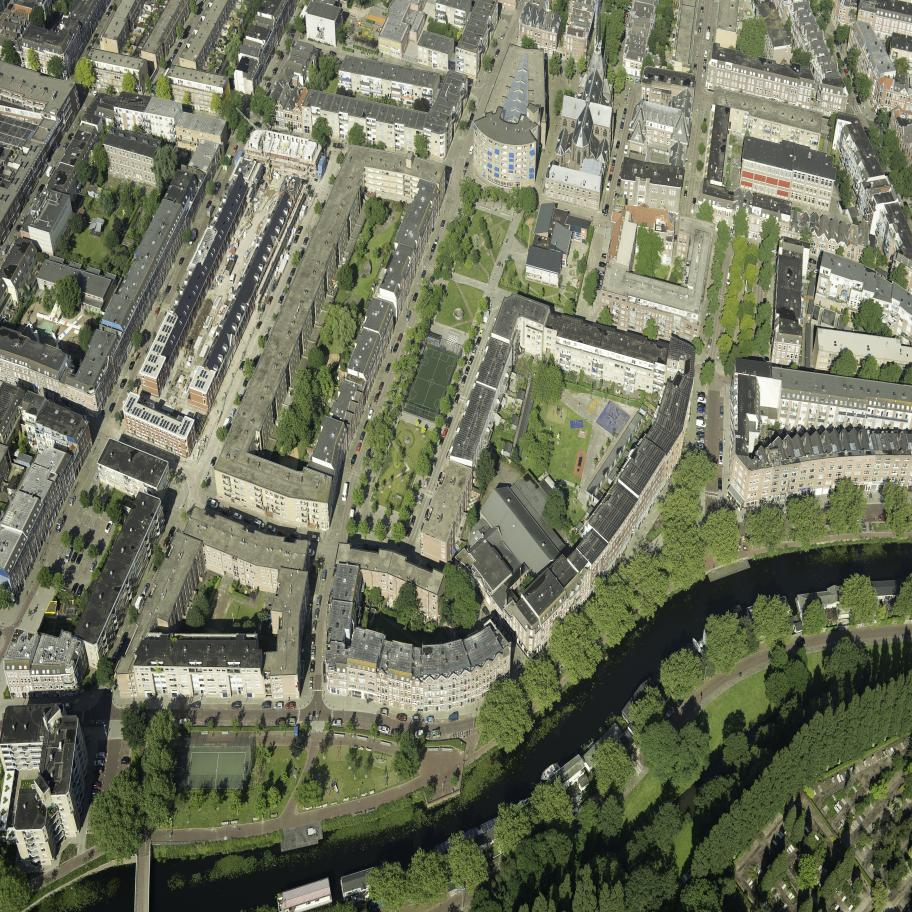ship: (537, 761, 563, 783), (690, 636, 703, 654)
small-vehicle: (223, 253, 238, 278), (415, 728, 441, 740), (53, 515, 67, 535), (133, 594, 145, 611), (187, 228, 198, 246), (43, 164, 56, 179), (221, 415, 233, 431), (63, 547, 74, 564), (205, 497, 220, 509), (252, 517, 267, 529), (673, 697, 686, 710), (567, 806, 581, 818), (205, 203, 216, 218), (270, 170, 283, 182), (664, 706, 676, 719), (0, 243, 11, 257), (488, 615, 499, 629), (341, 483, 349, 502), (377, 707, 390, 718), (104, 520, 114, 534), (119, 632, 129, 646), (113, 643, 123, 657), (141, 582, 151, 596), (377, 725, 391, 735), (601, 202, 610, 217), (220, 507, 233, 517), (88, 560, 98, 573), (453, 883, 466, 893), (395, 713, 408, 723), (695, 419, 708, 429), (167, 525, 176, 539), (118, 378, 128, 390), (425, 561, 437, 571), (447, 713, 459, 723), (70, 551, 79, 564), (75, 584, 84, 597), (150, 84, 159, 97), (162, 536, 171, 549), (332, 142, 345, 151), (445, 416, 454, 429), (304, 548, 315, 558), (481, 606, 491, 617), (68, 495, 77, 507), (107, 402, 116, 414), (75, 553, 84, 565), (70, 582, 79, 594), (232, 512, 244, 521), (349, 454, 358, 466), (296, 246, 305, 258), (390, 728, 402, 737), (113, 674, 121, 687), (349, 509, 355, 526), (14, 222, 23, 233), (266, 524, 277, 533), (209, 455, 217, 467), (152, 561, 160, 573), (355, 442, 363, 454), (358, 431, 366, 443), (468, 144, 476, 156), (424, 508, 432, 520), (405, 526, 413, 538), (404, 310, 412, 322), (417, 493, 425, 505), (696, 396, 708, 404), (164, 464, 174, 473), (243, 516, 253, 525), (276, 528, 286, 537), (37, 183, 45, 194), (242, 377, 250, 388), (20, 214, 28, 225), (238, 360, 246, 371), (377, 381, 385, 392), (384, 363, 392, 374), (179, 718, 190, 726), (289, 531, 300, 539), (441, 428, 449, 439), (624, 75, 635, 83), (467, 355, 475, 366), (696, 401, 707, 409), (695, 431, 706, 439), (807, 257, 818, 265), (437, 471, 444, 483), (126, 385, 133, 397), (363, 420, 370, 432), (373, 393, 380, 405), (310, 646, 316, 660), (427, 466, 434, 478), (726, 272, 732, 286), (872, 611, 878, 625), (96, 752, 106, 760), (255, 320, 263, 330), (204, 718, 214, 726), (271, 129, 281, 137), (301, 539, 311, 547), (261, 701, 271, 709), (285, 702, 295, 710), (296, 225, 304, 235), (363, 543, 373, 551), (372, 544, 382, 552), (286, 718, 296, 726), (266, 295, 274, 305), (598, 261, 608, 269), (695, 442, 705, 450), (854, 515, 864, 523), (316, 595, 322, 608), (93, 767, 104, 774), (91, 782, 102, 789), (229, 273, 236, 284), (205, 199, 212, 210), (365, 448, 372, 459), (367, 409, 374, 420), (311, 621, 318, 632), (273, 703, 284, 710), (454, 393, 461, 404), (428, 497, 435, 508), (410, 515, 417, 526), (423, 477, 430, 488), (431, 457, 438, 468), (430, 243, 437, 254), (420, 270, 427, 281), (412, 292, 419, 303), (396, 333, 403, 344), (392, 343, 399, 354), (429, 274, 436, 285), (878, 514, 889, 521), (92, 90, 101, 98), (89, 38, 97, 47), (168, 53, 176, 62), (311, 535, 320, 543), (321, 570, 327, 582), (314, 608, 320, 620), (310, 634, 316, 646), (309, 661, 315, 673), (333, 719, 342, 727), (707, 337, 713, 349), (67, 132, 74, 142), (231, 702, 241, 709), (94, 760, 104, 767), (90, 790, 100, 797), (89, 798, 99, 805), (46, 702, 56, 709), (33, 191, 40, 201), (289, 267, 296, 277), (232, 144, 239, 154), (230, 408, 237, 418), (251, 356, 258, 366), (165, 285, 172, 295), (223, 182, 230, 192), (215, 181, 222, 191), (293, 234, 300, 244), (494, 48, 501, 58), (464, 365, 471, 375), (445, 450, 452, 460), (277, 295, 284, 305), (439, 219, 446, 229), (475, 336, 482, 346), (471, 346, 478, 356), (595, 284, 605, 291), (696, 407, 706, 414), (855, 95, 862, 105), (128, 361, 134, 372), (628, 122, 634, 133), (615, 140, 621, 151), (623, 144, 629, 155), (62, 141, 69, 150), (62, 703, 71, 710), (121, 758, 130, 765), (181, 31, 188, 40), (191, 702, 200, 709), (236, 394, 243, 403), (803, 266, 812, 273), (178, 257, 185, 266), (154, 307, 161, 316), (265, 81, 272, 90), (293, 134, 302, 141), (275, 719, 284, 726), (264, 326, 271, 335), (465, 81, 474, 88), (425, 717, 434, 724), (433, 236, 440, 245), (601, 253, 610, 260), (697, 391, 706, 398), (696, 426, 705, 433), (696, 437, 705, 444), (727, 236, 736, 243), (771, 248, 780, 255), (812, 268, 821, 275), (293, 258, 299, 268), (286, 276, 292, 286), (466, 119, 472, 129), (461, 375, 467, 385), (439, 436, 445, 446), (619, 121, 625, 131), (605, 182, 611, 192), (607, 173, 613, 183), (616, 178, 622, 188), (719, 406, 724, 418), (86, 45, 93, 53), (92, 32, 99, 40), (176, 41, 183, 49), (172, 48, 179, 56), (272, 67, 279, 75), (329, 50, 337, 57), (494, 14, 502, 21), (411, 716, 419, 723), (598, 270, 606, 277), (718, 454, 723, 465), (303, 236, 309, 245), (469, 113, 475, 122), (626, 132, 632, 141), (620, 162, 626, 171), (618, 170, 624, 179), (612, 152, 618, 161), (597, 275, 606, 281), (846, 74, 852, 83), (696, 416, 705, 422), (823, 519, 832, 525), (839, 59, 845, 68), (836, 51, 842, 60), (718, 478, 722, 491), (715, 283, 720, 293), (185, 25, 191, 33), (279, 53, 285, 61), (500, 32, 506, 40), (490, 58, 496, 66), (464, 161, 470, 169), (108, 4, 114, 12), (621, 13, 629, 19), (623, 6, 631, 12), (624, 3, 632, 9), (479, 328, 485, 336), (281, 288, 287, 296), (719, 441, 723, 453), (609, 166, 614, 175), (611, 159, 616, 168), (705, 31, 710, 40), (692, 197, 697, 206), (198, 1, 204, 8), (292, 27, 298, 34), (289, 33, 295, 40), (635, 79, 642, 85), (542, 57, 549, 63), (556, 68, 563, 74), (843, 68, 849, 75), (488, 66, 493, 74), (621, 115, 626, 123), (685, 180, 690, 188), (845, 97, 850, 105), (763, 297, 767, 307), (105, 11, 111, 17), (623, 107, 627, 116), (683, 190, 688, 197), (704, 50, 708, 58), (693, 63, 697, 71), (700, 6, 704, 13), (699, 18, 703, 25), (703, 118, 707, 125), (695, 50, 699, 57), (698, 26, 702, 33), (703, 58, 707, 64), (707, 26, 711, 32), (703, 66, 706, 72)
